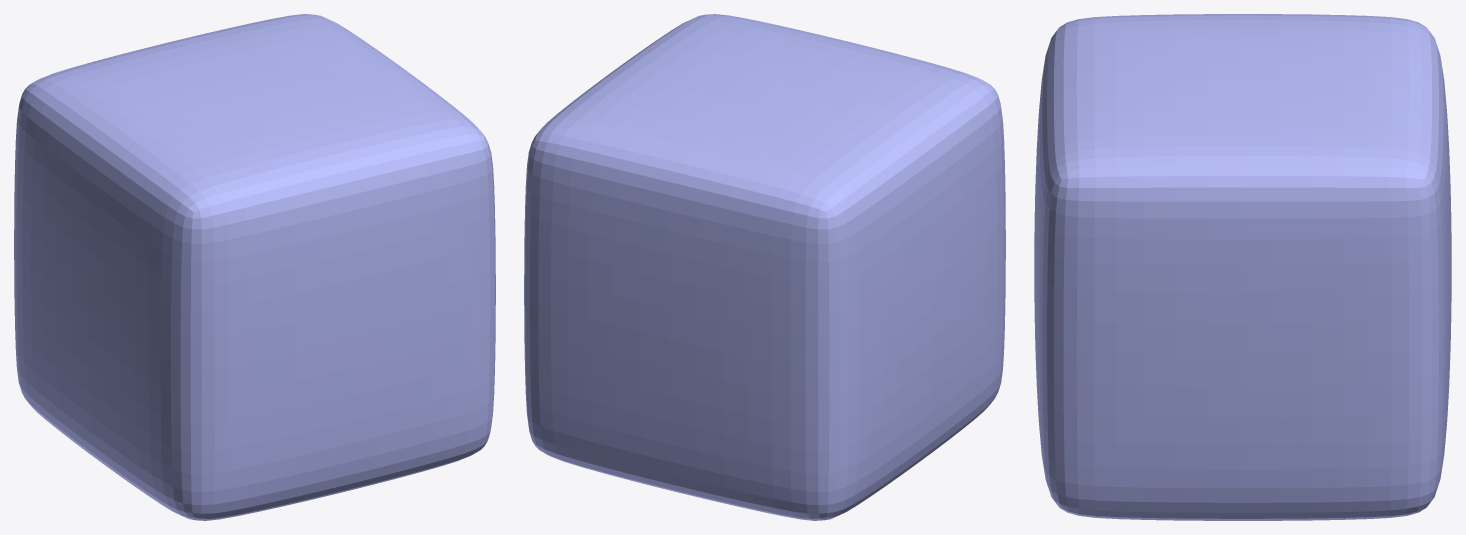
Rendered from sequencerbutton.glb.
3 views of the same model, side by side, from view 1: azimuth 30°, elevation 25°; view 2: azimuth 150°, elevation 25°; view 3: azimuth 270°, elevation 25° (orthographic). The views are drawn at different scales.
Visible parts, largest first — view 1: Cube.001; view 2: Cube.001; view 3: Cube.001.
Part boxes in pixels (bbox=[...]): Cube.001: bbox=[14, 14, 495, 520]; Cube.001: bbox=[524, 14, 1005, 520]; Cube.001: bbox=[1034, 14, 1451, 520].
Bounding box in the file's own units: 0.0942 × 0.0942 × 0.0942.
